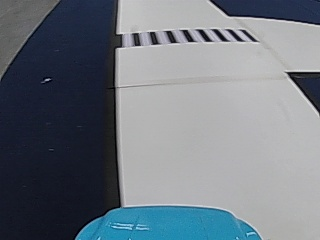CrossWalk: (118, 26, 249, 47)
